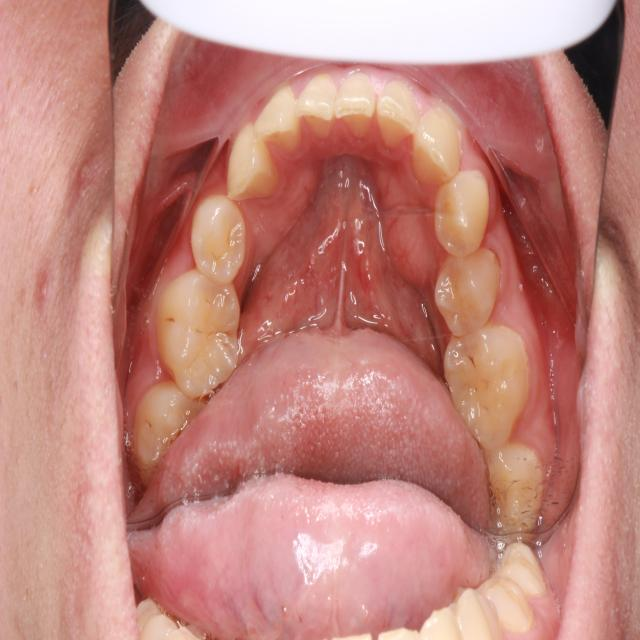tooth: (437, 312, 538, 457), (156, 264, 252, 416), (122, 373, 203, 490), (422, 152, 504, 263), (430, 240, 506, 352), (483, 432, 546, 545), (406, 91, 465, 204), (370, 54, 429, 160), (188, 191, 252, 288), (218, 116, 282, 211), (252, 79, 309, 168), (327, 62, 384, 151), (298, 65, 353, 149)
